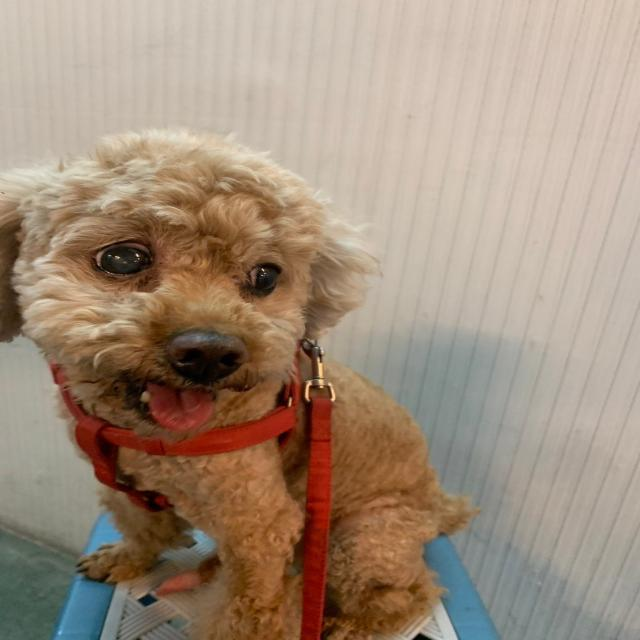adult_dog: (0, 125, 478, 640)
